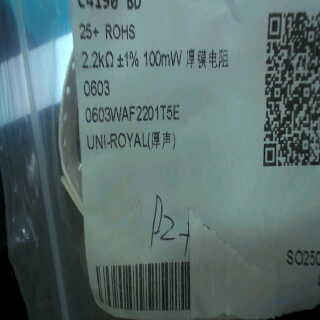2.2kR: (79, 46, 118, 74)
